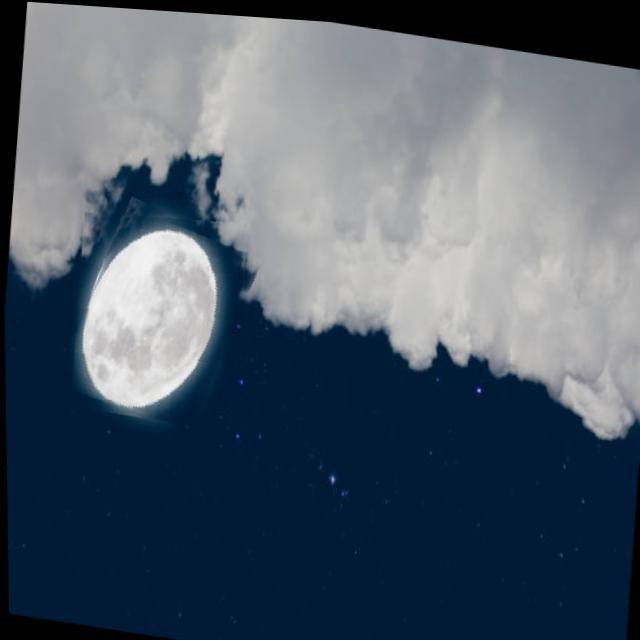moon: (66, 195, 254, 429)
